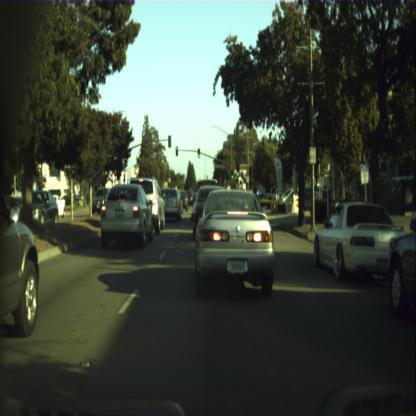Green: (236, 164, 239, 176), (197, 147, 200, 158), (230, 170, 233, 178)
Red: (175, 146, 178, 156)
